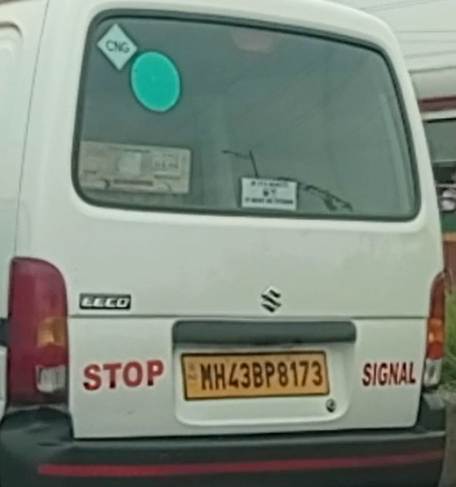MH43BP8173: (181, 351, 329, 399)
